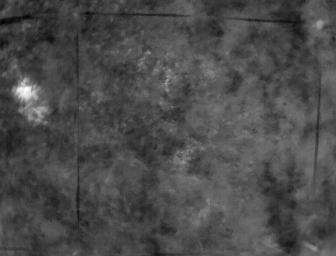landmine: (13, 77, 40, 104)
